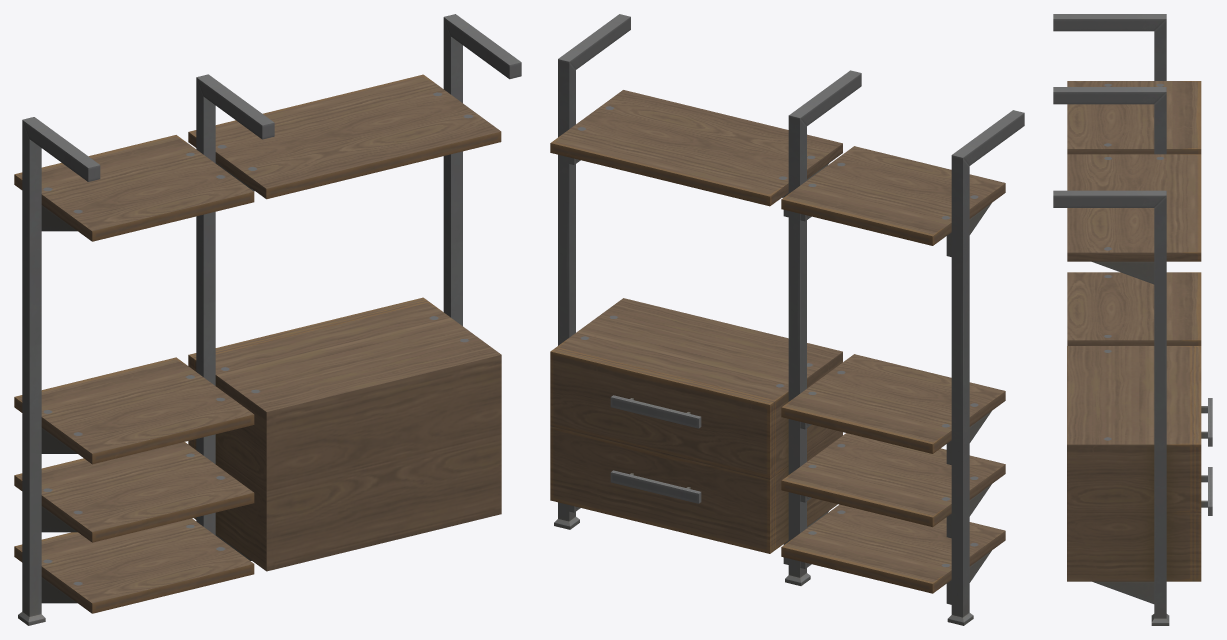
Rendered from P_Hanger_001_S1_M02.obj.
3 views of the same model, side by side, from view 1: azimuth 30°, elevation 25°; view 2: azimuth 150°, elevation 25°; view 3: azimuth 270°, elevation 25° (orthographic). The views are drawn at different scales.
Size of the model in its own units: 2.02 by 2.2 by 0.7409.
1 material, 1 textured.
